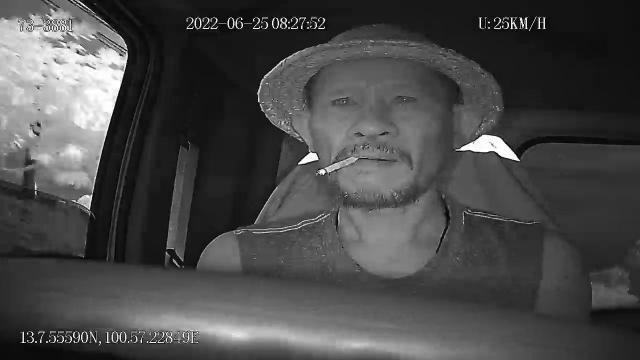SafeDriving: (386, 86, 424, 110), (327, 88, 362, 112)
Smoking: (318, 154, 360, 178)
